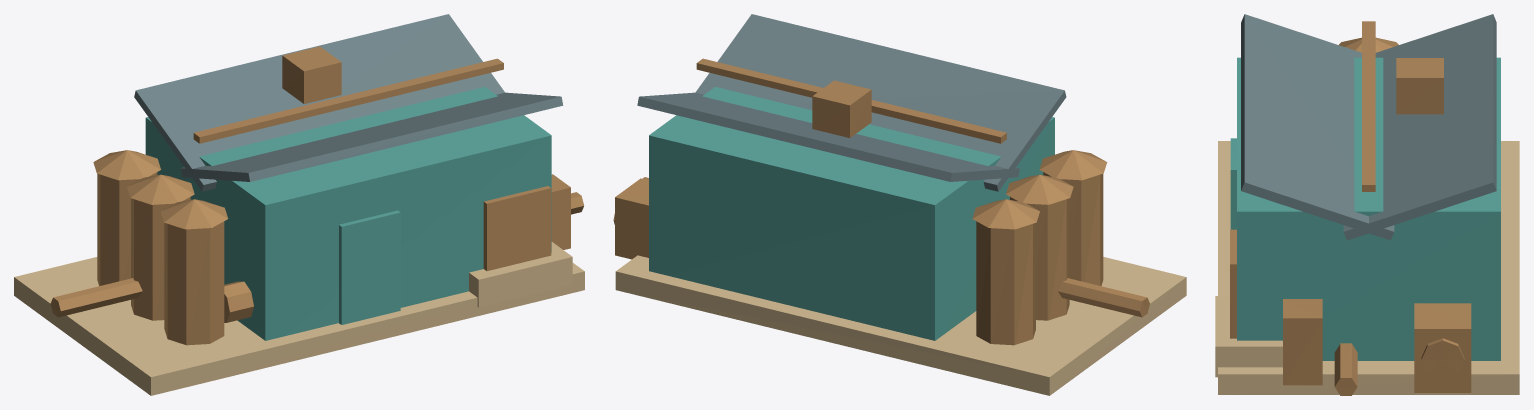
File: Industrial-Dairy.glb
3 renders of one model, left to right at view 1: azimuth 30°, elevation 25°; view 2: azimuth 150°, elevation 25°; view 3: azimuth 270°, elevation 25°, orthographic. The views are drawn at different scales.
Parts seen in each view (by area): view 1: wind-pump-static-industrial-dairy-pale-processing-panel, wind-pump-static-industrial-dairy-galvanized-roof, wind-pump-static-industrial-dairy-stone-foundation, wind-pump-static-industrial-dairy-stainless-tank, wind-pump-static-industrial-dairy-dark-mechanized-frame; view 2: wind-pump-static-industrial-dairy-pale-processing-panel, wind-pump-static-industrial-dairy-galvanized-roof, wind-pump-static-industrial-dairy-stone-foundation, wind-pump-static-industrial-dairy-stainless-tank, wind-pump-static-industrial-dairy-dark-mechanized-frame; view 3: wind-pump-static-industrial-dairy-galvanized-roof, wind-pump-static-industrial-dairy-pale-processing-panel, wind-pump-static-industrial-dairy-stone-foundation, wind-pump-static-industrial-dairy-dark-mechanized-frame, wind-pump-static-industrial-dairy-stainless-tank.
Boxes of the visible parts, <box> form: wind-pump-static-industrial-dairy-pale-processing-panel: <box>145,87,551,340</box>; wind-pump-static-industrial-dairy-galvanized-roof: <box>134,14,563,191</box>; wind-pump-static-industrial-dairy-stone-foundation: <box>14,242,584,395</box>; wind-pump-static-industrial-dairy-stainless-tank: <box>93,150,228,345</box>; wind-pump-static-industrial-dairy-dark-mechanized-frame: <box>50,46,584,322</box>; wind-pump-static-industrial-dairy-pale-processing-panel: <box>649,87,1054,340</box>; wind-pump-static-industrial-dairy-galvanized-roof: <box>637,14,1066,191</box>; wind-pump-static-industrial-dairy-stone-foundation: <box>615,255,1186,395</box>; wind-pump-static-industrial-dairy-stainless-tank: <box>615,150,1107,345</box>; wind-pump-static-industrial-dairy-dark-mechanized-frame: <box>613,58,1149,317</box>; wind-pump-static-industrial-dairy-galvanized-roof: <box>1241,14,1496,240</box>; wind-pump-static-industrial-dairy-pale-processing-panel: <box>1230,57,1500,360</box>; wind-pump-static-industrial-dairy-stone-foundation: <box>1215,141,1519,394</box>; wind-pump-static-industrial-dairy-dark-mechanized-frame: <box>1230,21,1464,395</box>; wind-pump-static-industrial-dairy-stainless-tank: <box>1339,37,1471,392</box>.
Size of the model in its own units: 5.73 by 2.22 by 2.68.
